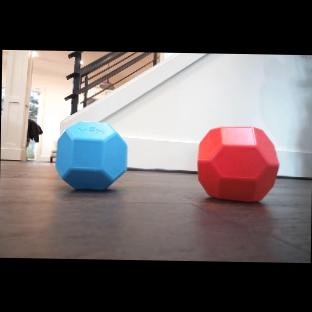V5_BLUE: (54, 120, 129, 192)
V5_RED: (197, 125, 280, 203)
